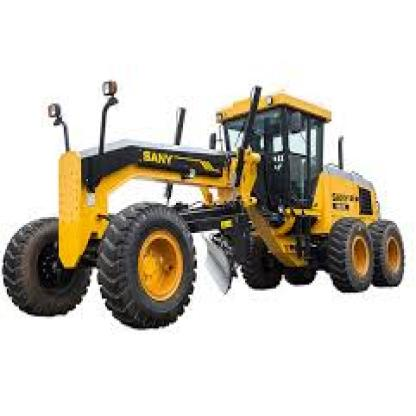bull_dozer/loader/grader: (3, 64, 414, 324)
